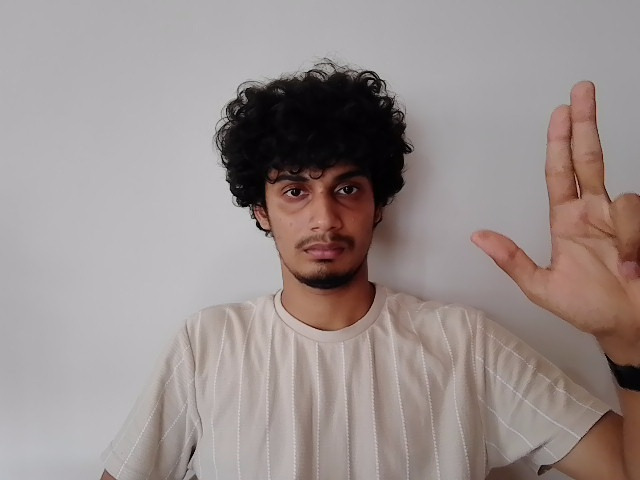no: (468, 77, 640, 322)
